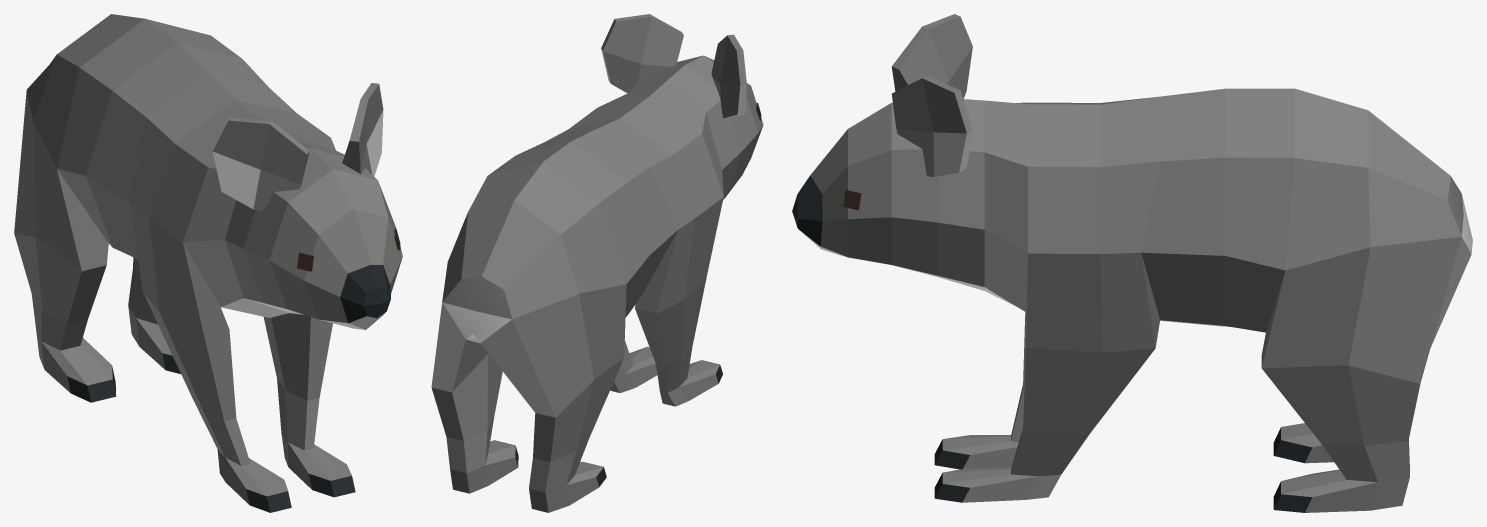
File: koala.glb
3 renders of one model, left to right at view 1: azimuth 30°, elevation 25°; view 2: azimuth 150°, elevation 25°; view 3: azimuth 270°, elevation 25°, orthographic. The views are drawn at different scales.
Visible parts, largest first — view 1: Geo_Koala; view 2: Geo_Koala; view 3: Geo_Koala.
Part boxes in pixels (box(x1,y1,x2,y2)): Geo_Koala: box(14, 14, 402, 512); Geo_Koala: box(431, 14, 763, 512); Geo_Koala: box(792, 14, 1472, 512).
Size of the model in its own units: 48.04 by 97.6 by 142.
Materials: 1 (1 with a texture image).
